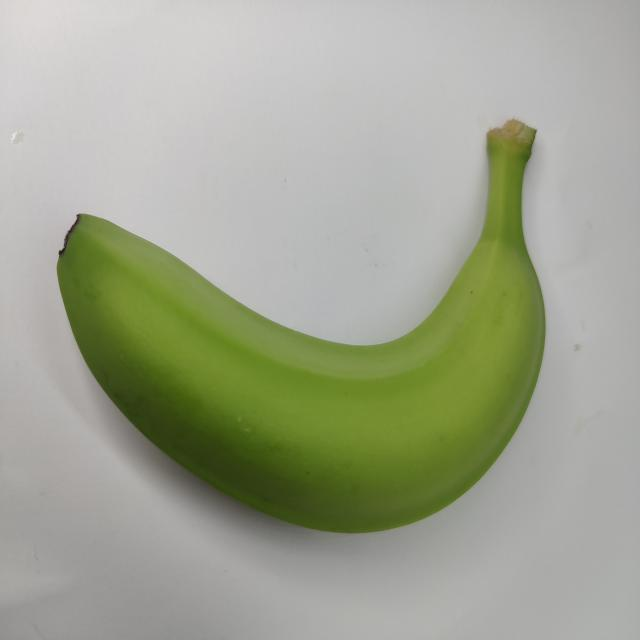raw: (44, 67, 556, 566)
